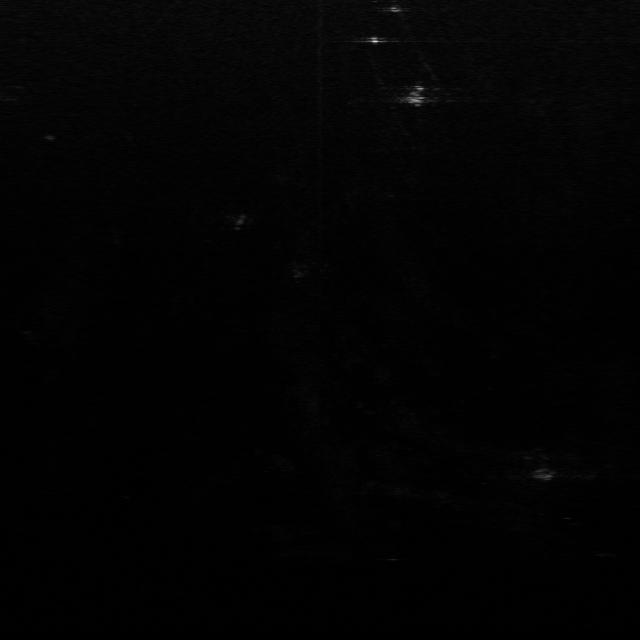rov: (403, 82, 429, 106)
